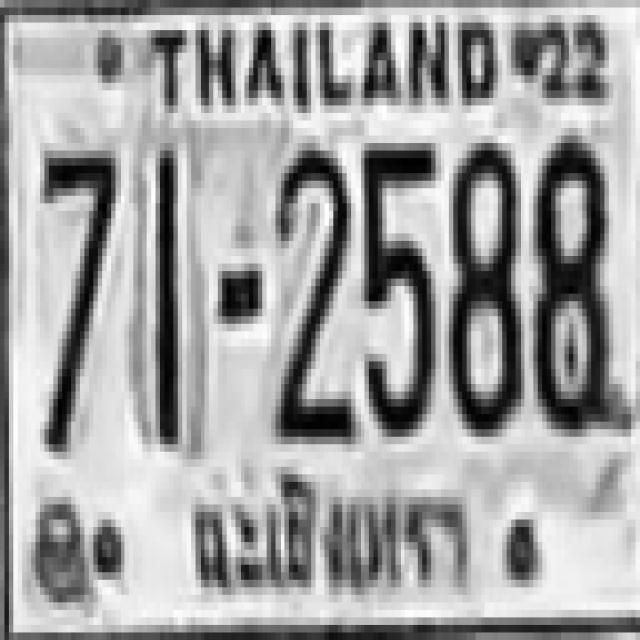1: (146, 140, 178, 440), (151, 143, 178, 444), (153, 147, 180, 448)
2: (273, 139, 349, 433)
5: (360, 136, 431, 429)
7: (40, 143, 116, 444)
8: (529, 128, 618, 429), (444, 136, 516, 429)
CCO: (178, 461, 482, 600)
